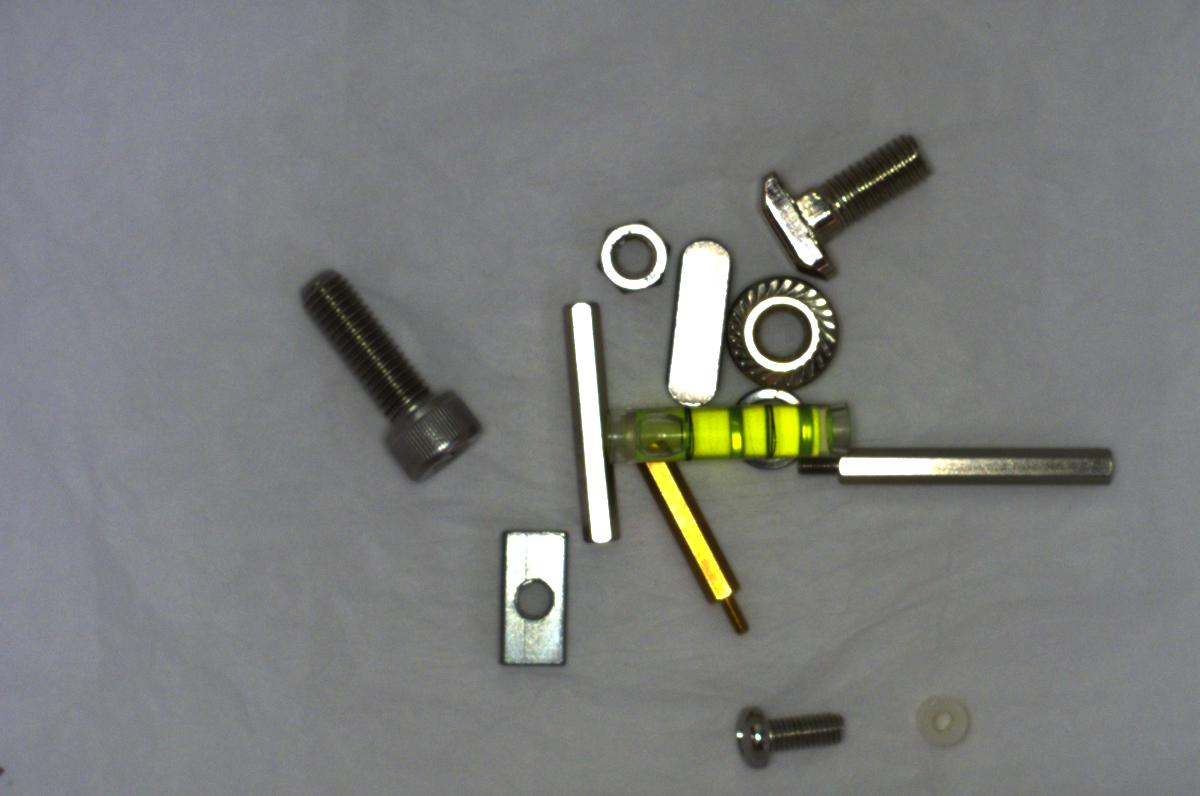Double hexagonal column: (546, 298, 638, 558)
Flange nut: (710, 274, 850, 387)
Hexagon nut: (593, 213, 675, 298)
Hexagon pillar: (642, 456, 760, 644)
Hexagon screw: (289, 255, 492, 489)
Hexagonal steel column: (785, 435, 1123, 500)
Horizontal bubble: (602, 394, 856, 465)
Keybar: (651, 227, 734, 410)
Plastic cushion pillar: (902, 686, 980, 755)
Rectangular nut: (492, 523, 578, 676)
Round head screw: (714, 689, 864, 774)
Spring washer: (723, 383, 820, 477)
T-shaped screw: (758, 136, 938, 268)
